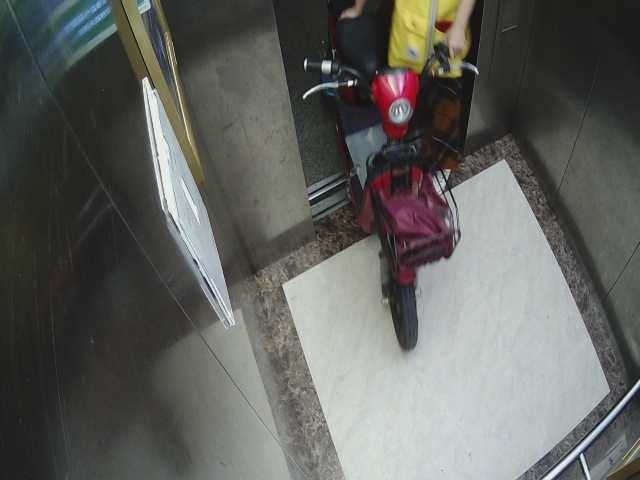emotor: (291, 7, 472, 353)
